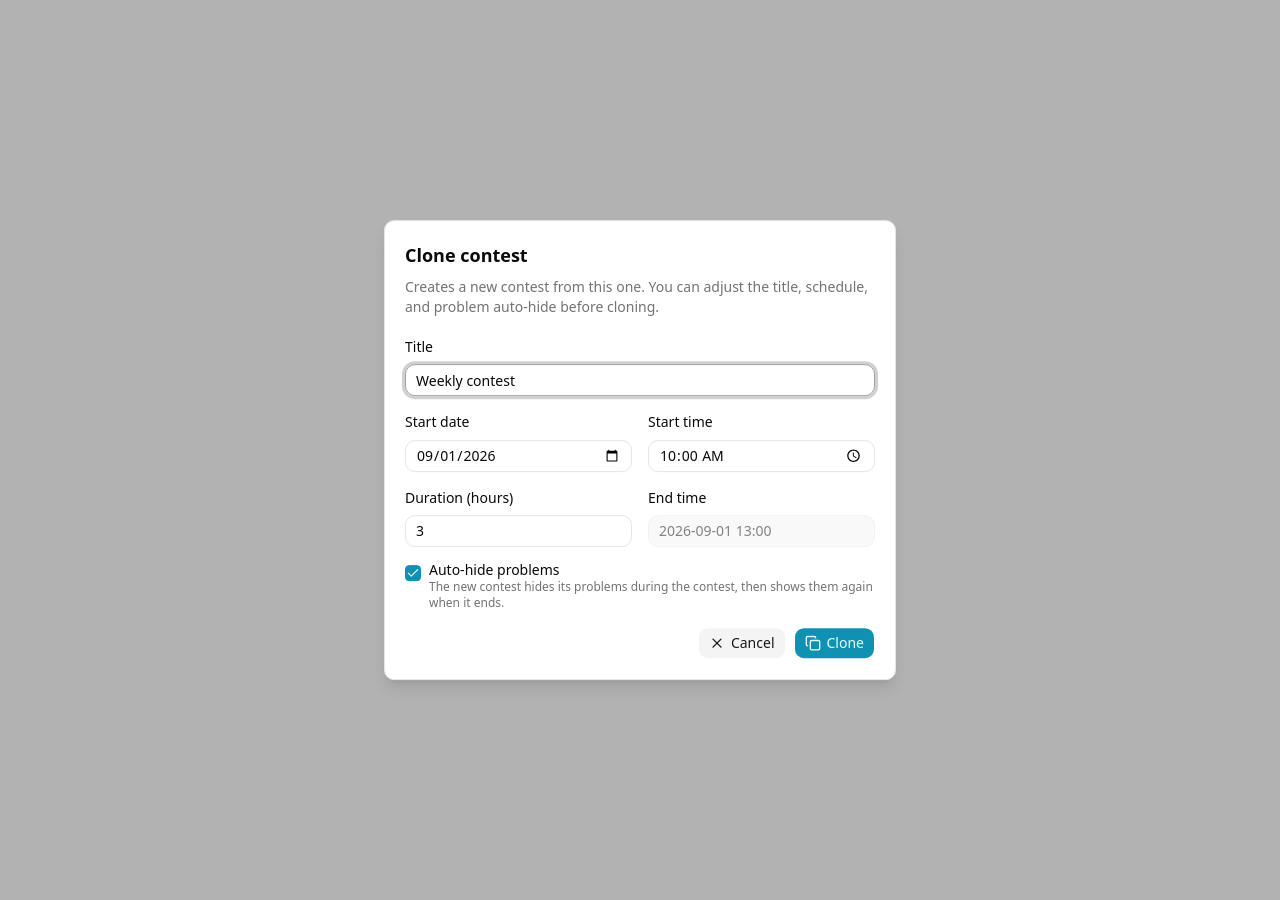
Scenario: contest clone dialog › shows clone failures inside the dialog and stays open
Click the button "Clone". click: x=834, y=643
box: [794,627,875,659]
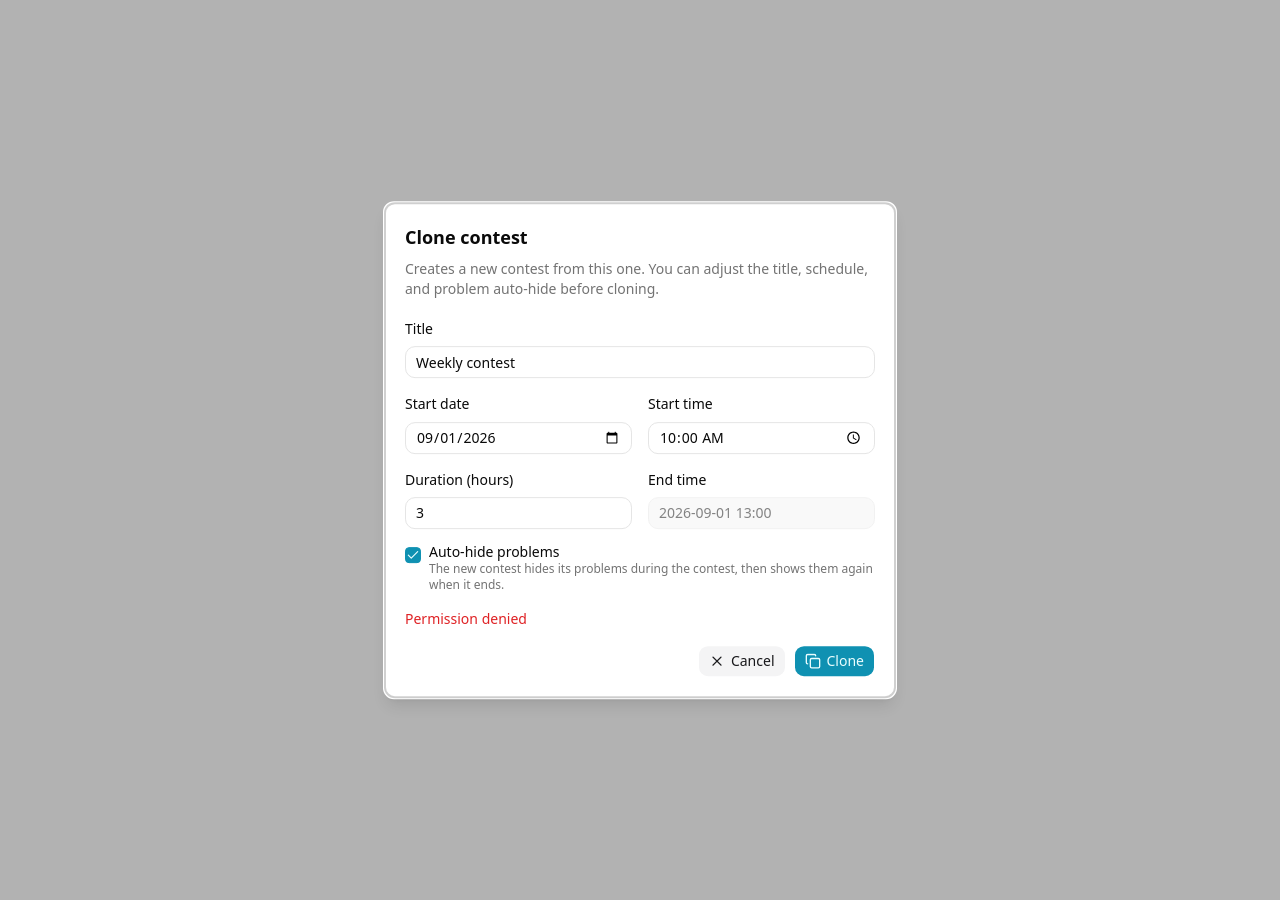
Expected: the dialog "Clone contest" is shown, [384,202,896,698]
Expected: the message reads "Permission denied", [405,609,527,628]
